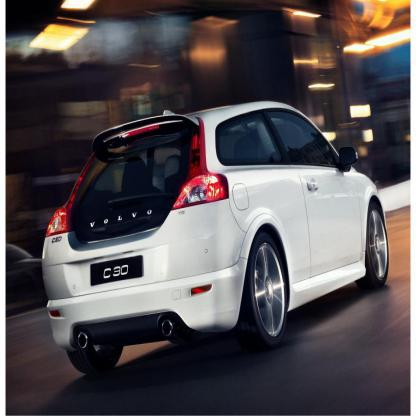Vehicle: (42, 103, 392, 378)
